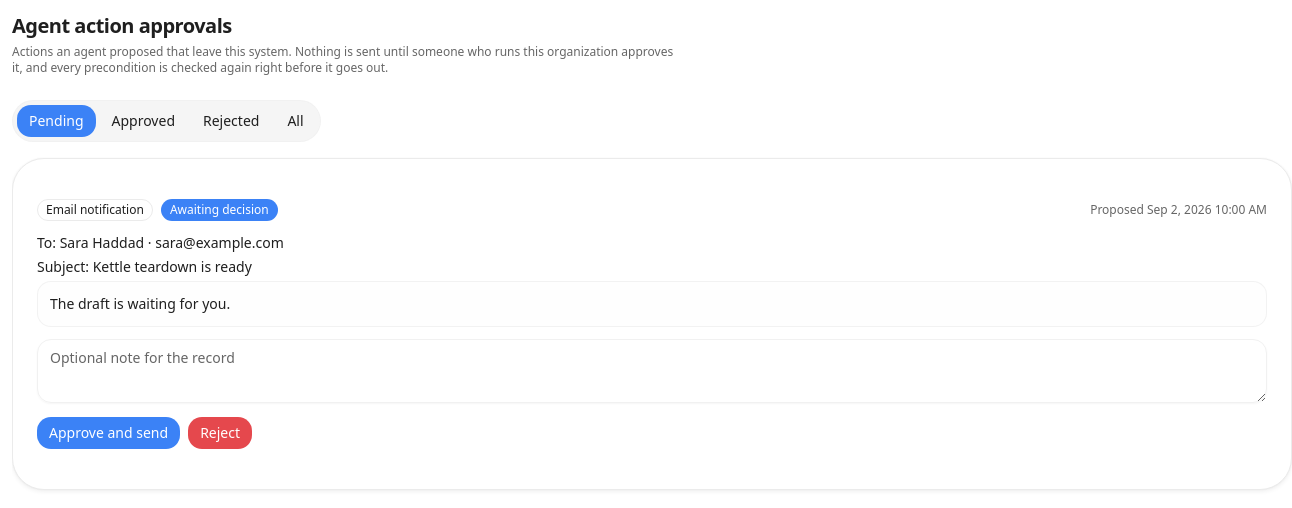
Test case: organization approvals block › approves in place and shows the decided state
Expected: the text "Kettle teardown is ready" is shown, [93,257,252,276]
Type "Looks good" into the text box labelled "Optional note for the record" at [652, 371], box [37,339,1267,403]
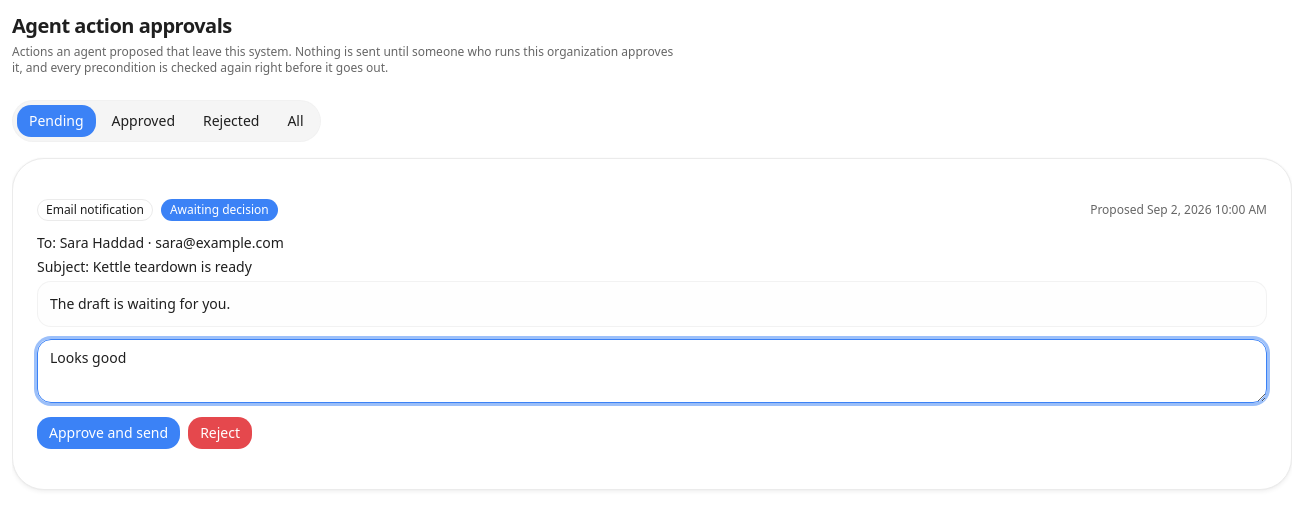
Click the button "Approve and send" at [109, 433], box [37,417,180,449]
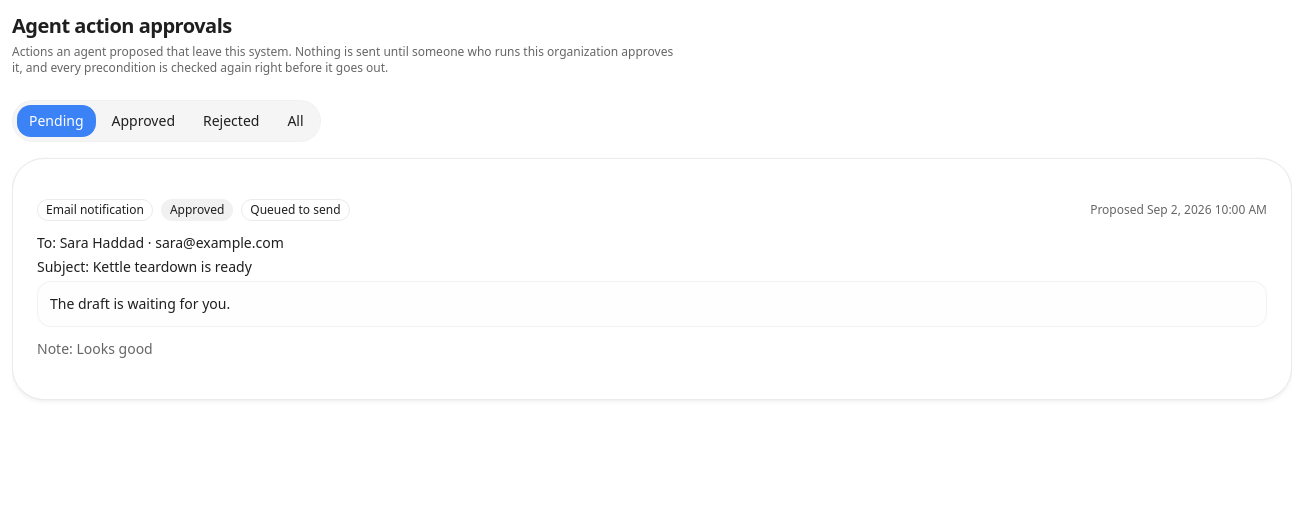
Result: the text "Queued to send" is shown at [241,199,350,221]
Result: the button "Approve and send" is gone
